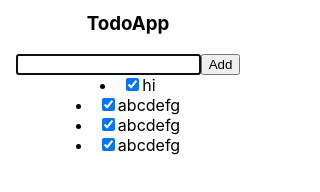
Scenario: Test our todo app › should add to todo to list ater typing todo in input and clicking on add button
Type "todo 3" into the field at (109, 65), box [16,54,201,75]
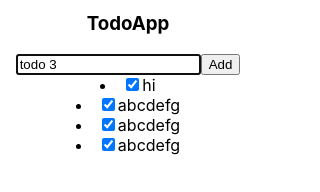
Click the button with test id "todo-button" at (221, 65), box [201,54,241,75]
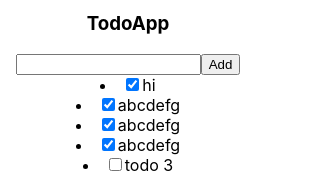
expect the text with test id "todo-item-value" reads "todo 3": met, box [125,155,174,175]
